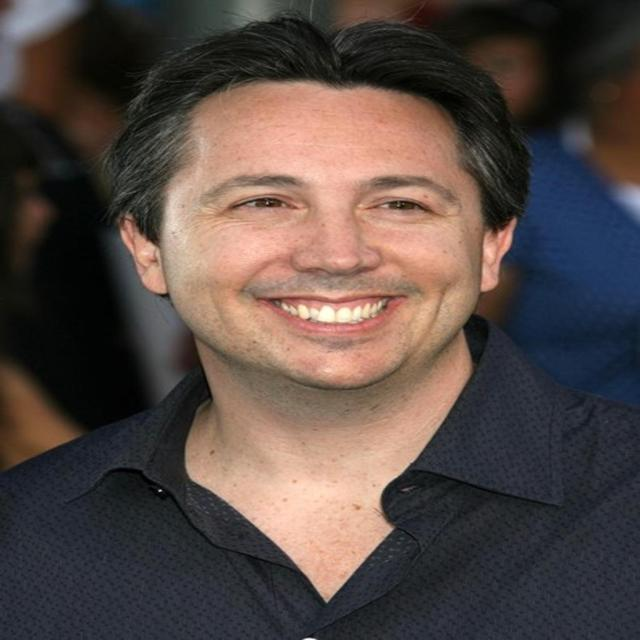Face: (181, 79, 496, 386)
